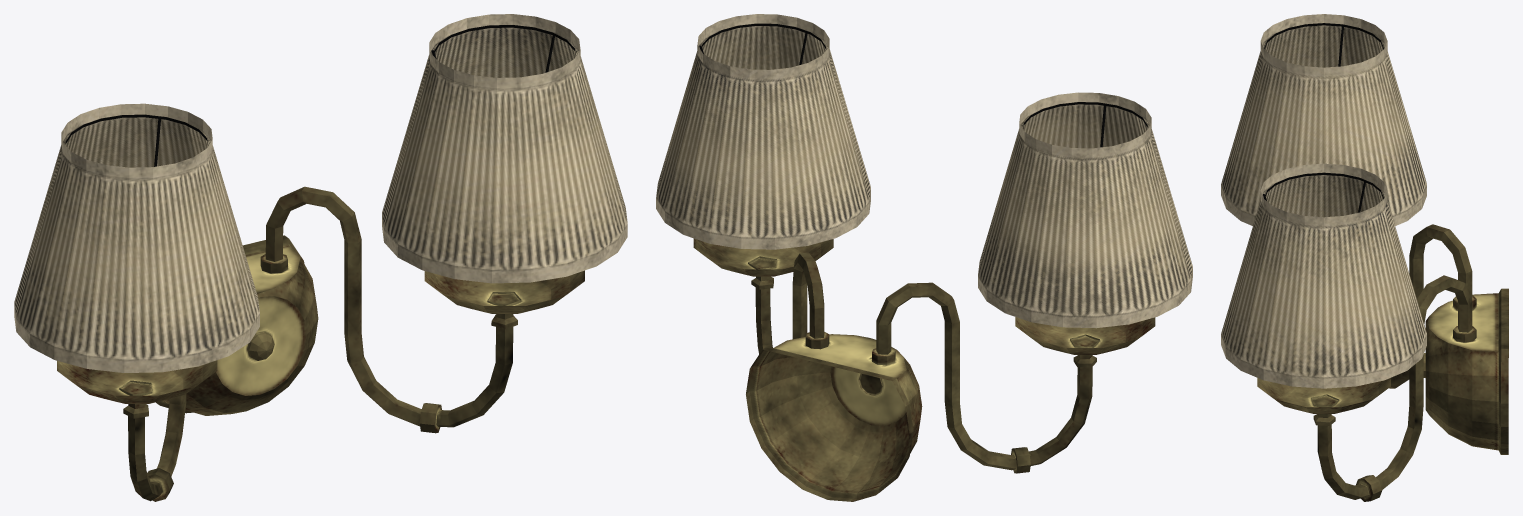
The model's file is f_walllight.glb.
3 renders of one model, left to right at view 1: azimuth 30°, elevation 25°; view 2: azimuth 150°, elevation 25°; view 3: azimuth 270°, elevation 25°, orthographic. The views are drawn at different scales.
Bounding box in the file's own units: 96.99 × 63.37 × 49.85.
1 material, 1 textured.
